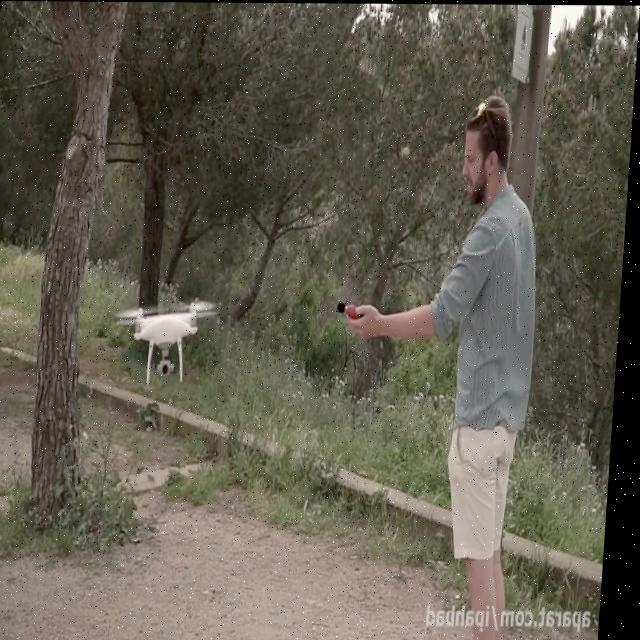drone: (113, 294, 222, 384)
